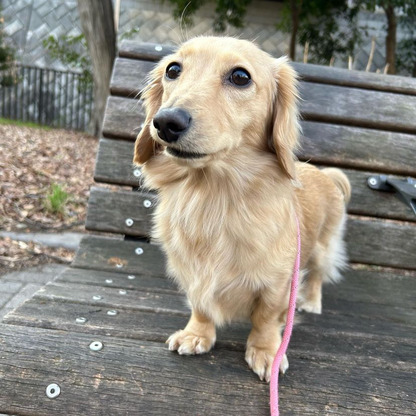dachshund: (111, 29, 375, 371)
